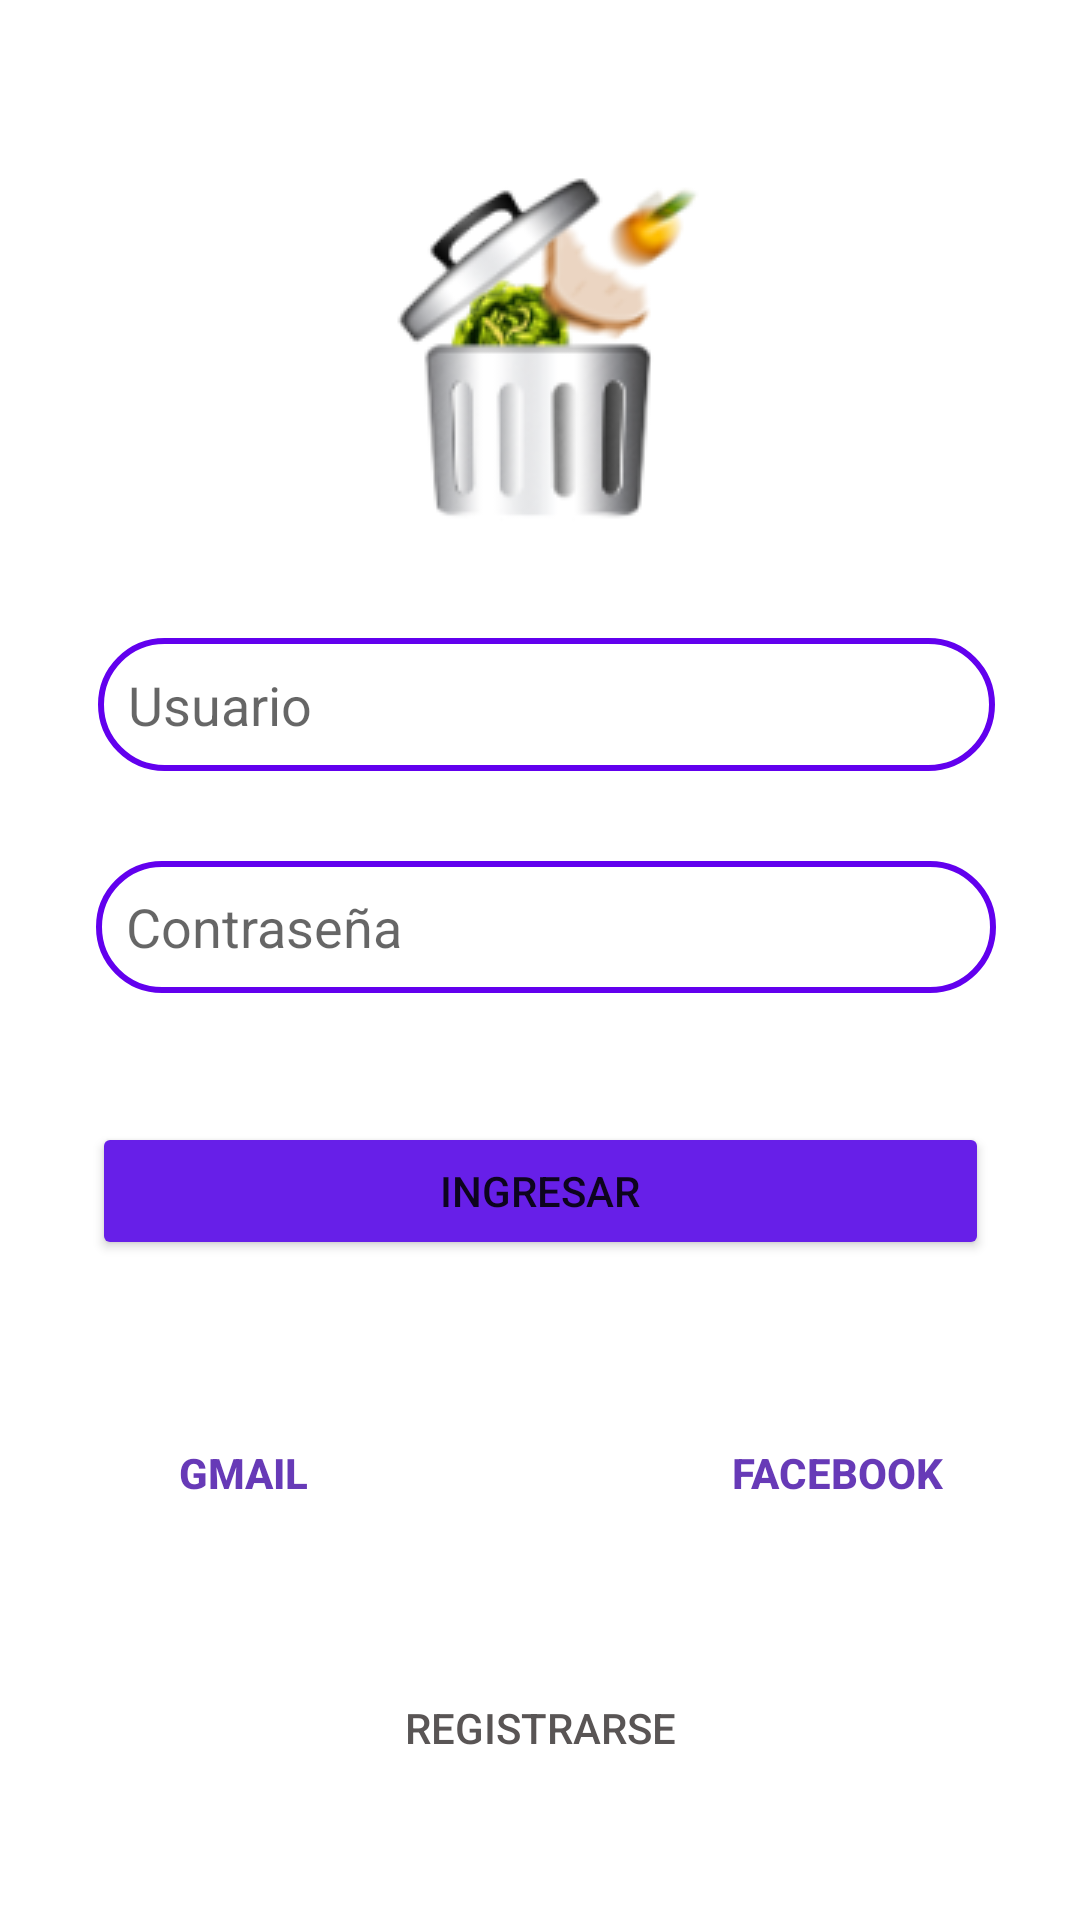

Named icons in this screenshot (1080 x 1920) and their centers, (x=x, y=y):
basura: (x=546, y=347)
